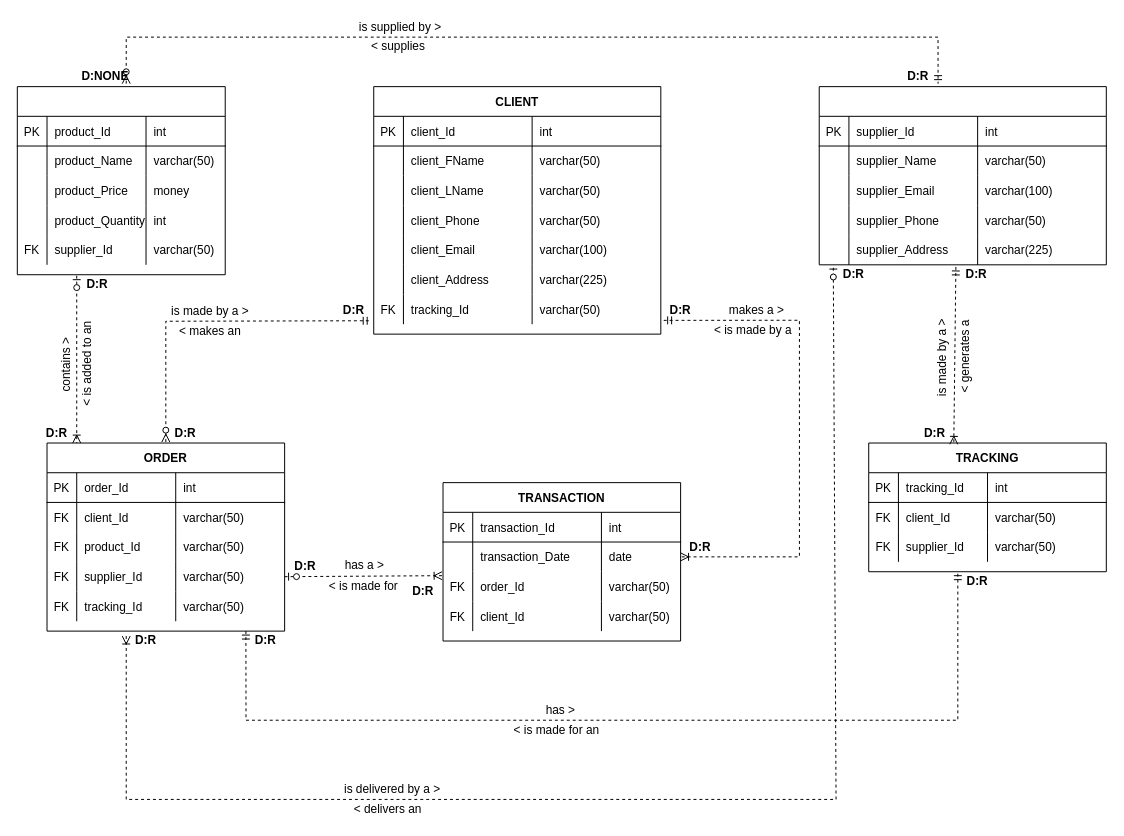
This 1124x836 diagram has some shape labels left out. The shapes that lost their labels are listed below. From the top down, each one's box as (x1, y1, x2, y2) in pixels, then its label:
(16, 86, 225, 275): INVENTORY PRODUCT
(818, 86, 1106, 265): SUPLLIER
